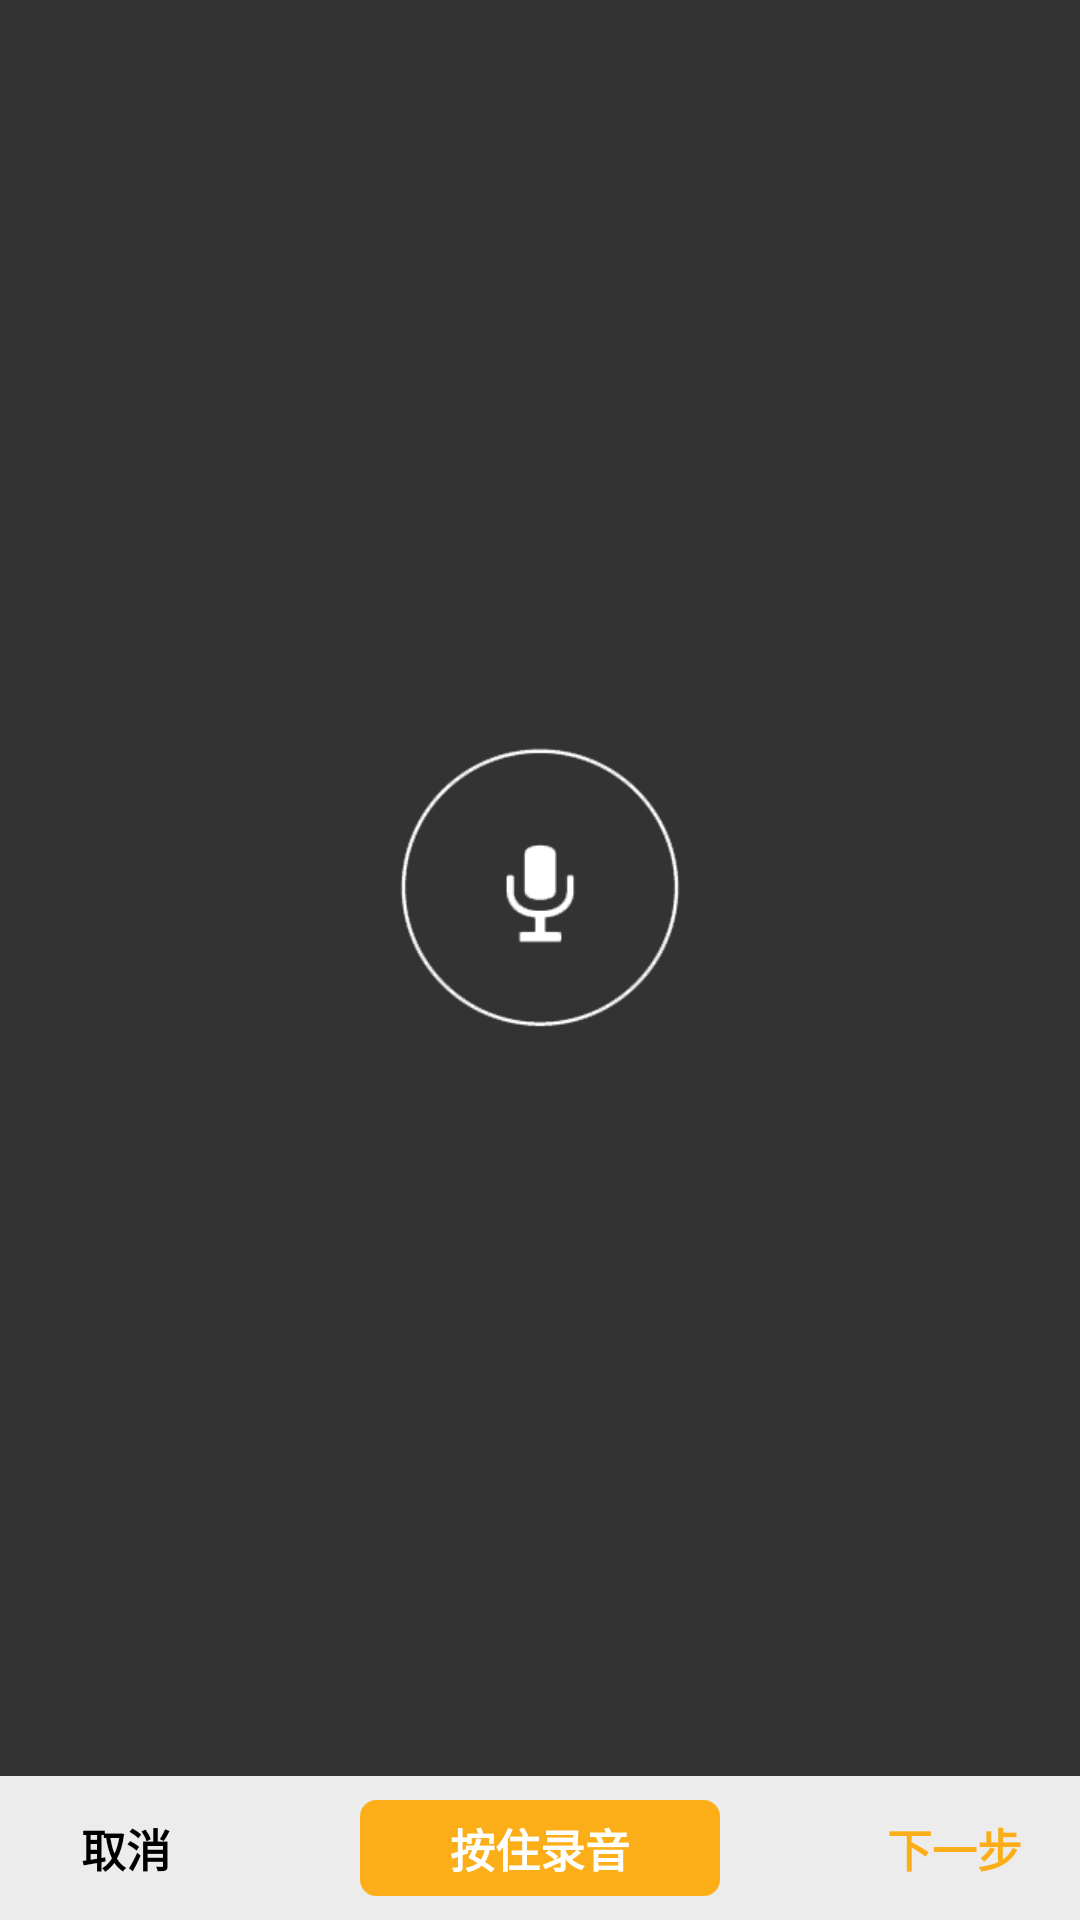

Locate icon controls on the screen. Image size 1080px x 1920px, boxes as (x1, y1, x2, y2).
mic init: (401, 748, 679, 1027)
